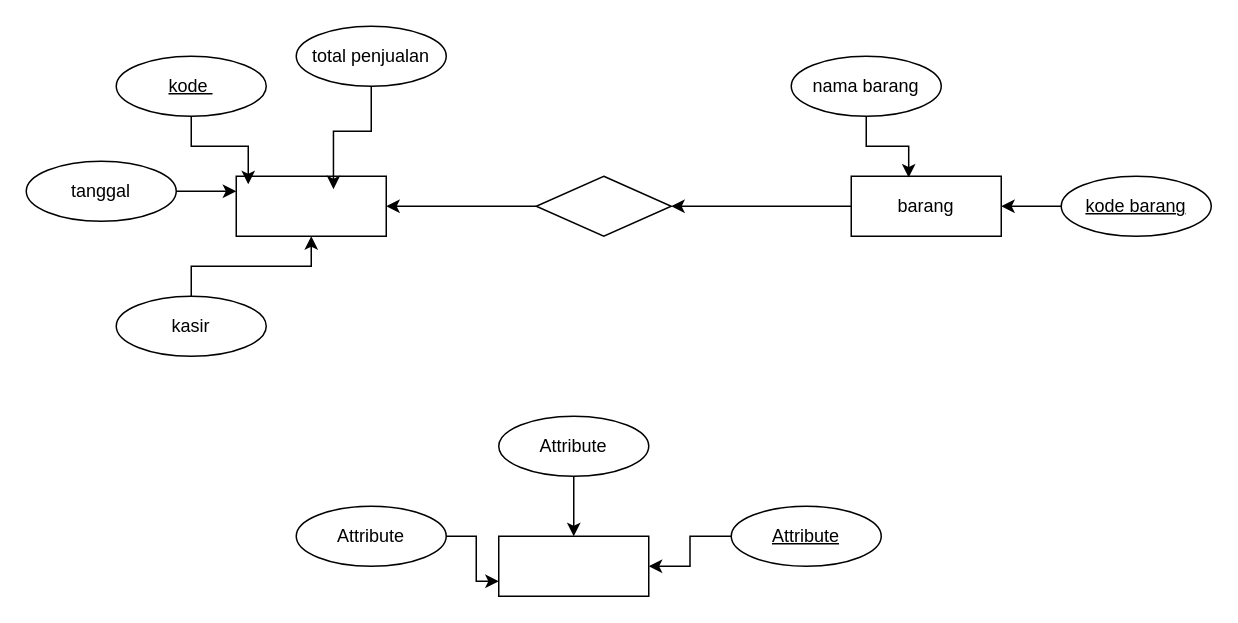
Some shapes in this 1238 by 623 pixel diagram are drawn without their labels. Here are the shapes that lost their labels. From the top down, the box of each, then its label:
(235, 175, 386, 236): penjualan
(535, 175, 671, 236): transaksi
(497, 535, 649, 596): detail penjualan
